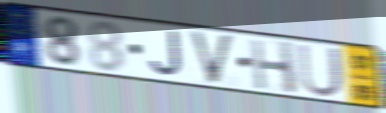8: (85, 19, 127, 75), (41, 14, 81, 68)
H: (248, 37, 300, 96)
J: (148, 30, 184, 78)
U: (296, 42, 346, 99)
V: (187, 29, 236, 87)
